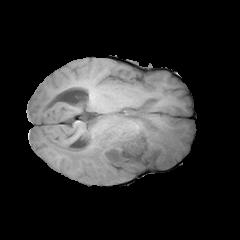glioma: (48, 112, 186, 181)
